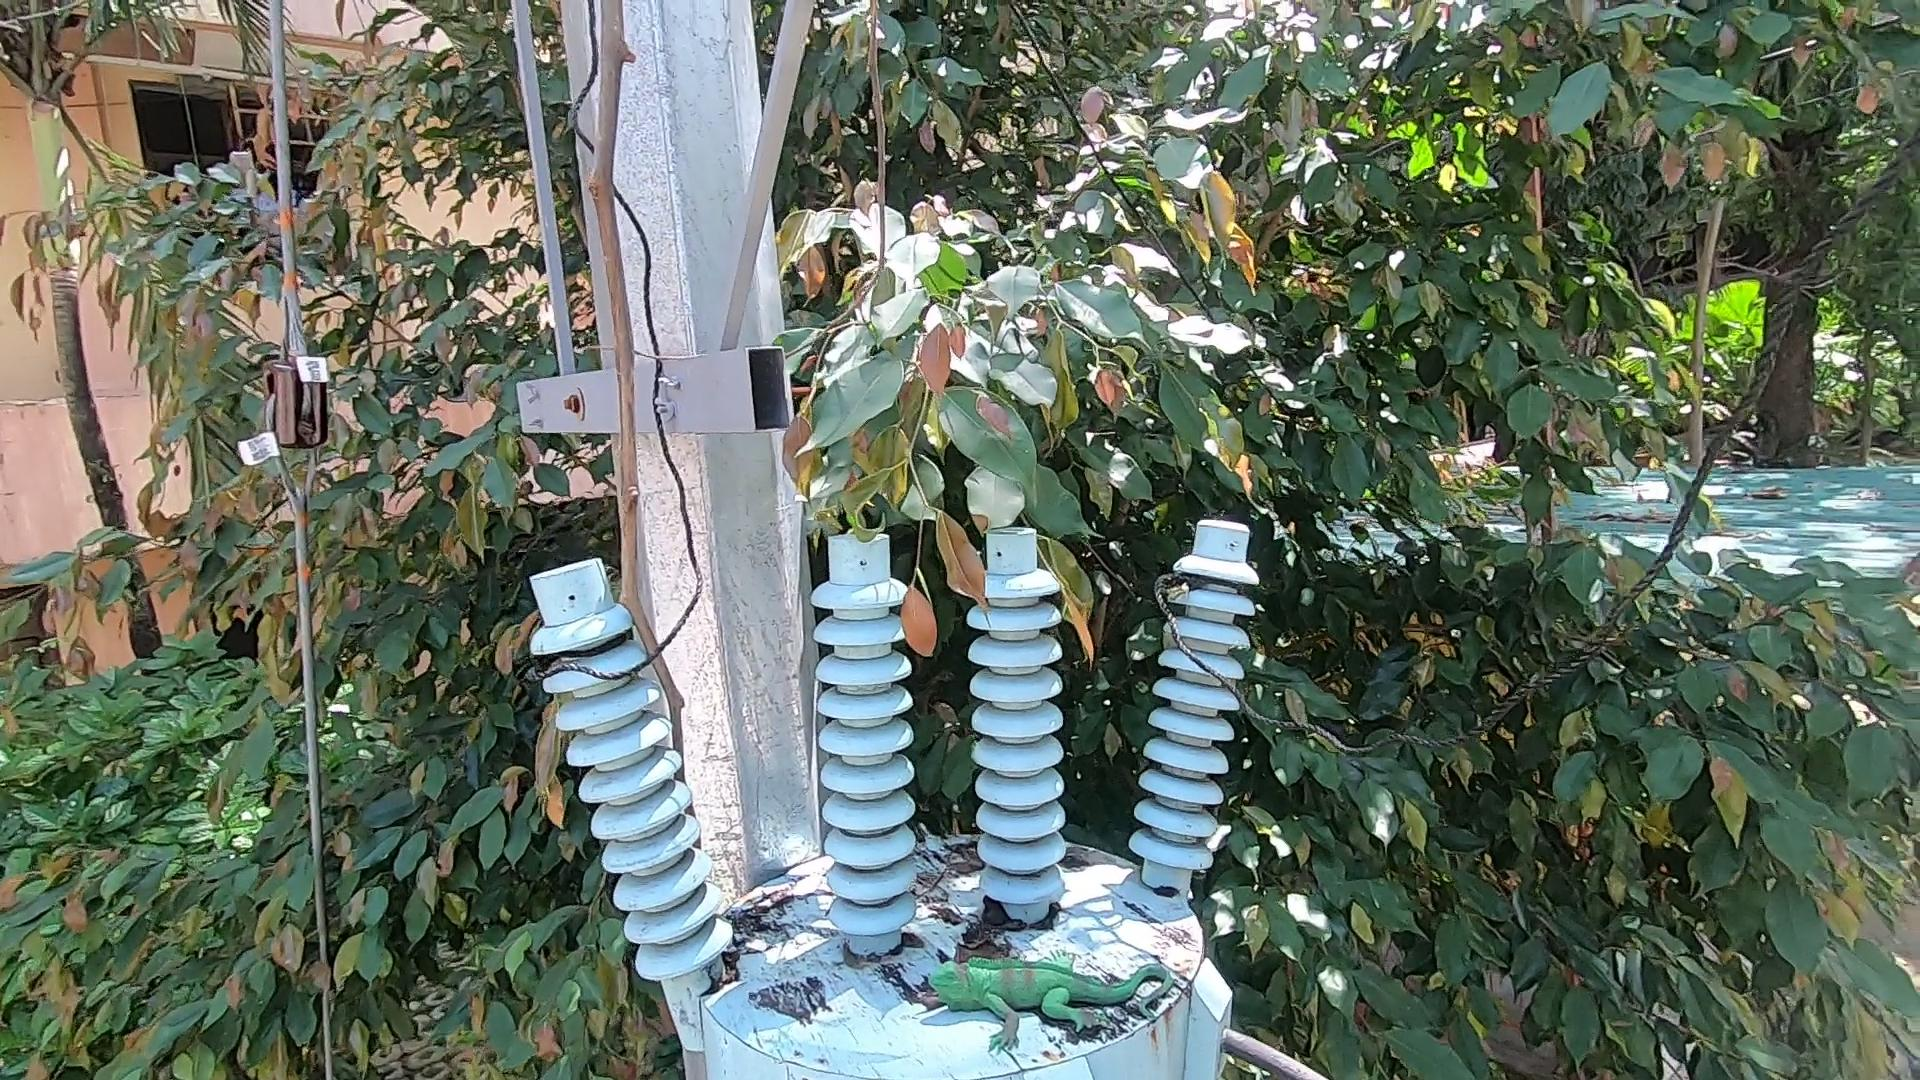branch with leaves: (800, 345, 1117, 684)
leaf: (945, 909, 1035, 973), (695, 952, 758, 1004)
tree branch: (549, 5, 738, 766)
